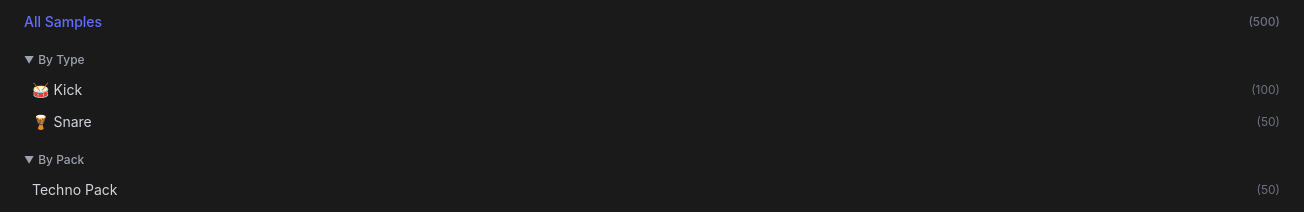
Test: PackTree › collapses By Type section when header clicked
Expected: the text "🥁 Kick" is shown, [32,80,82,100]
# Click "By Type" header to collapse
Step 1. Click the text "By Type" → (61, 60), box [38,52,85,68]
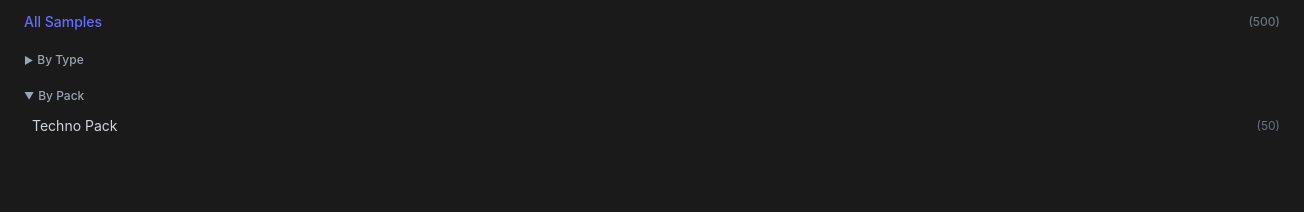
Expected: the button "Kick" is gone
